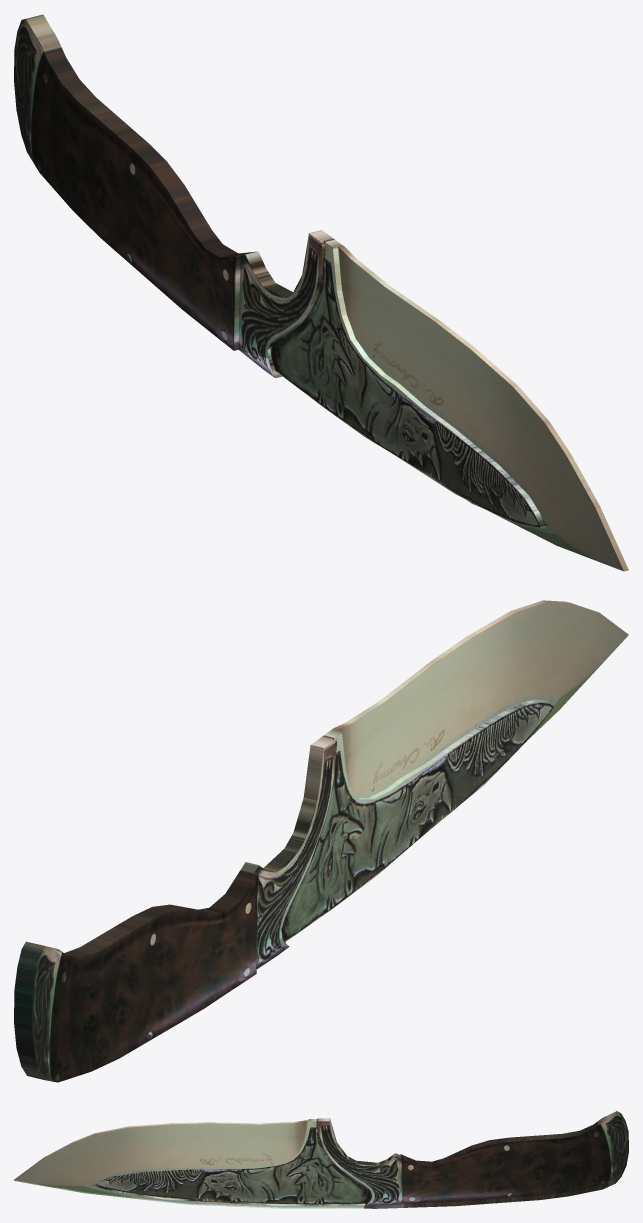
File: model_align.obj
3 views of the same model, one above another, from view 1: azimuth 30°, elevation 25°; view 2: azimuth 150°, elevation 25°; view 3: azimuth 270°, elevation 25° (orthographic). The views are drawn at different scales.
Bounding box in the file's own units: 0.00342 × 0.0336 × 0.2005.
Materials: 1 (1 with a texture image).
